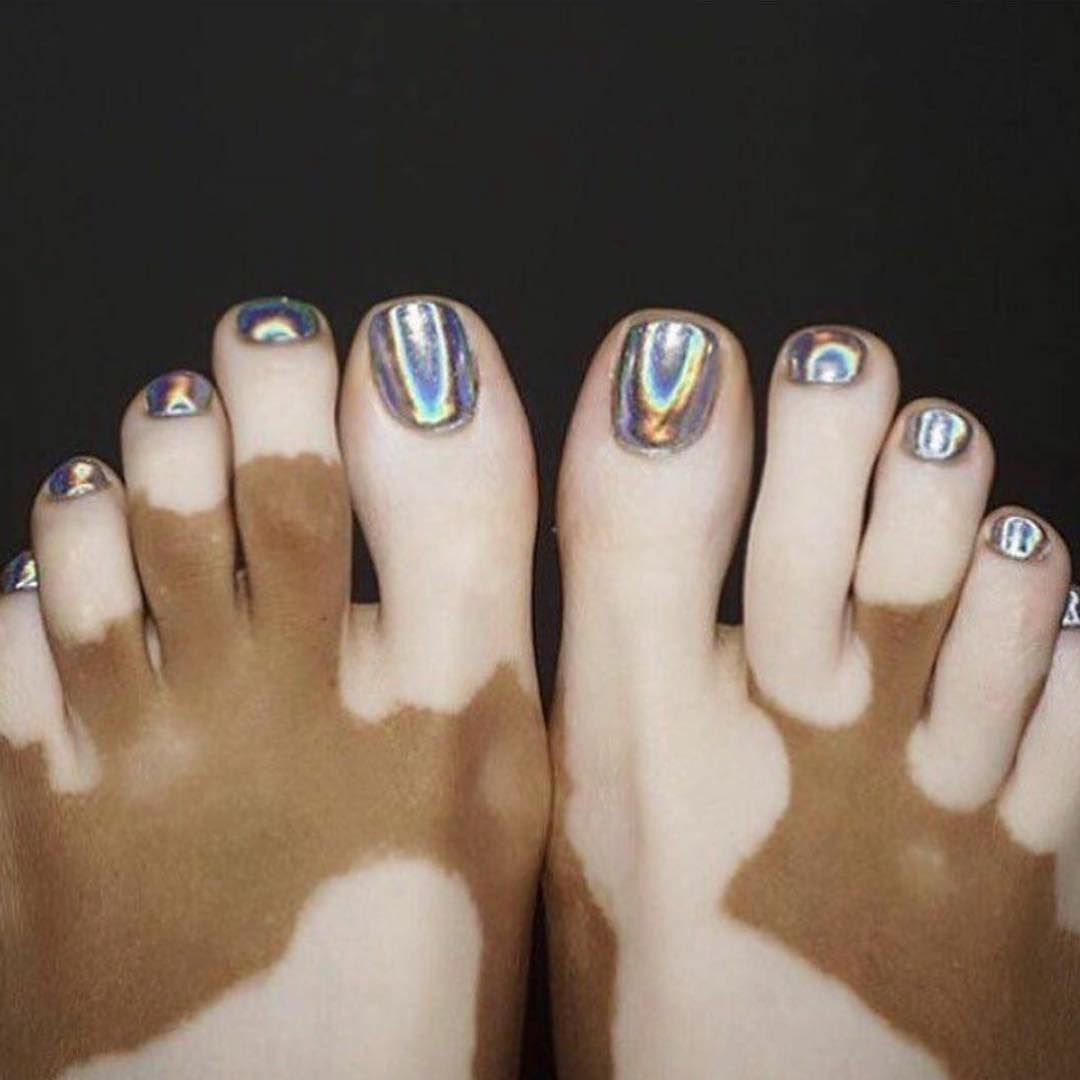vitiligo: (64, 388, 916, 1032)
